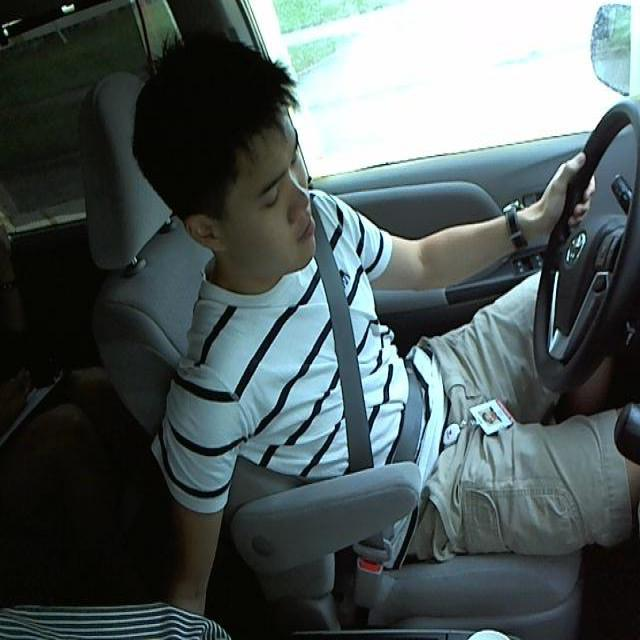seatbelt: (313, 259, 432, 476)
